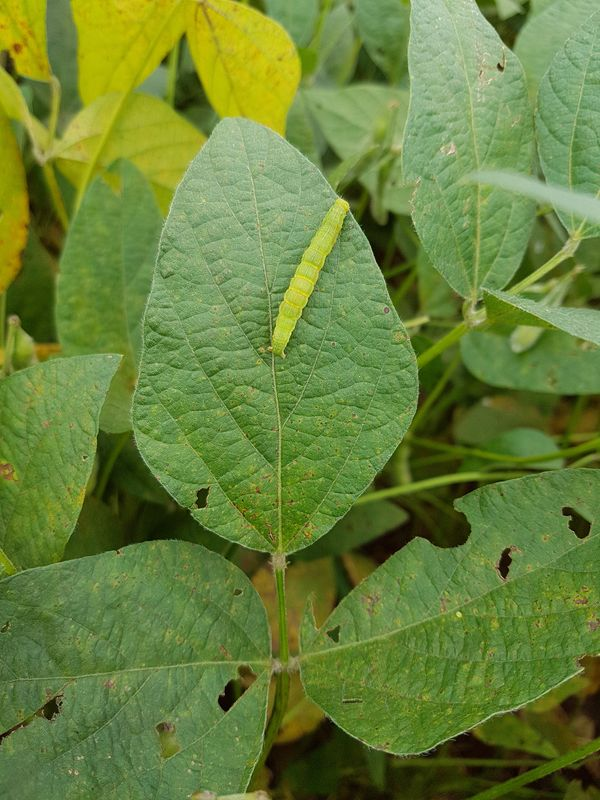Anticarsia_gemmatalis: (252, 191, 389, 366)
